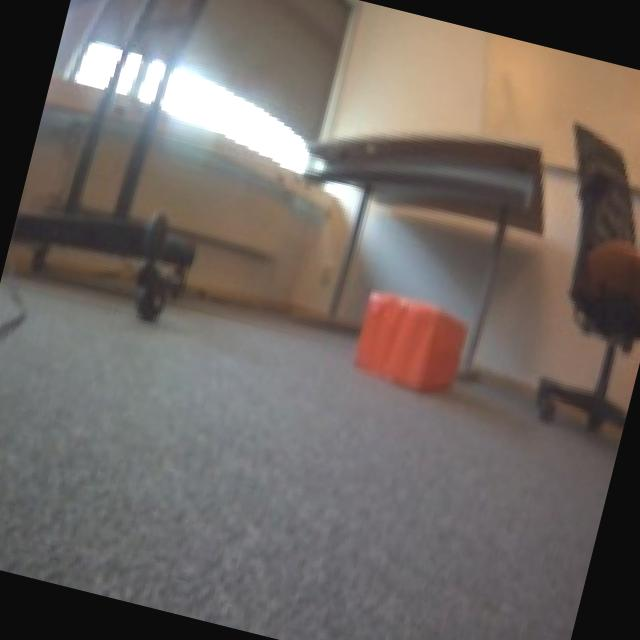target: (342, 281, 473, 400)
